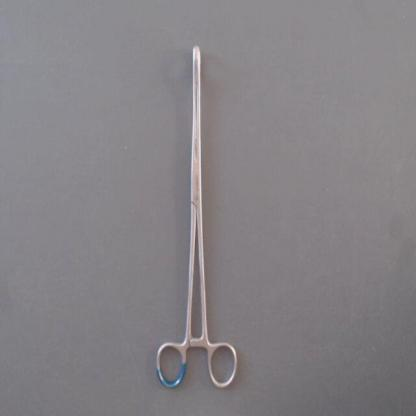Sponge Forceps: (151, 39, 241, 395)
